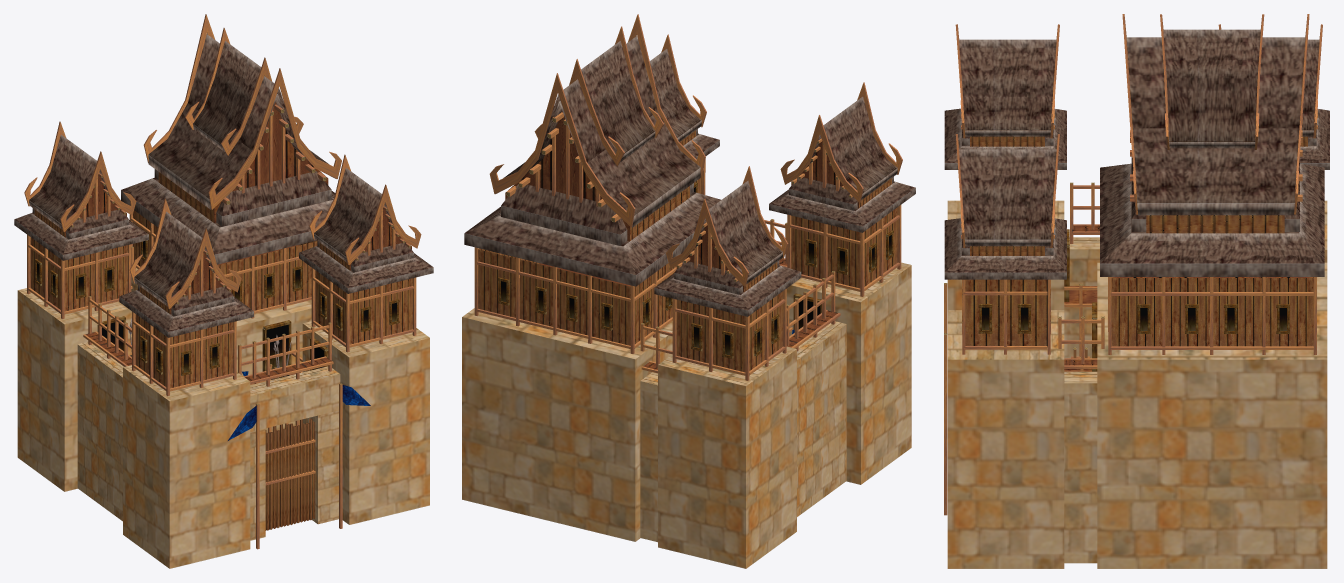
The model's file is fortress.dae.
3 views of the same model, side by side, from view 1: azimuth 30°, elevation 25°; view 2: azimuth 150°, elevation 25°; view 3: azimuth 270°, elevation 25° (orthographic). The views are drawn at different scales.
Visible parts, largest first — view 1: fortress; view 2: fortress; view 3: fortress.
Boxes of the visible parts, x1=… form: fortress: x1=14, y1=14, x2=433, y2=568; fortress: x1=462, y1=14, x2=915, y2=568; fortress: x1=944, y1=14, x2=1329, y2=568.
Bounding box in the file's own units: 25.56 × 25.74 × 38.69.
